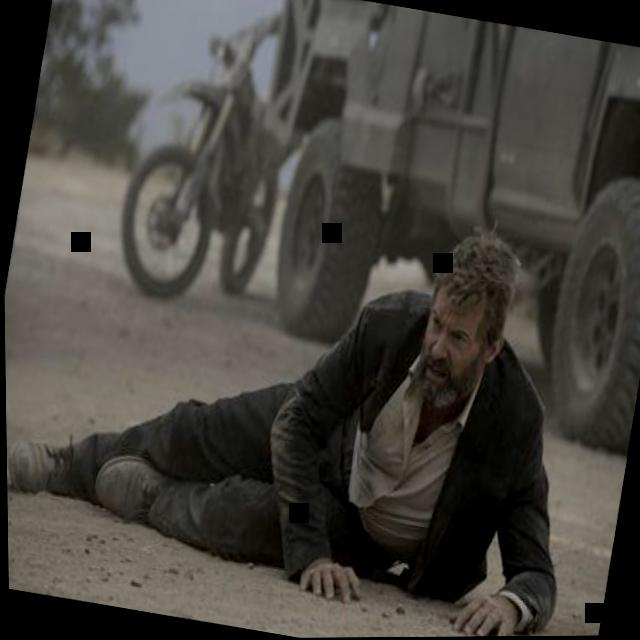Fall-Detected: (2, 158, 640, 640)
